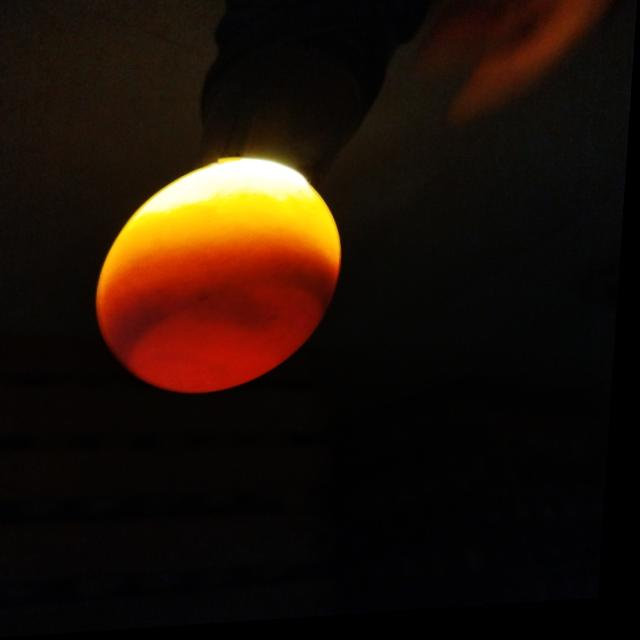Area Infectada: (113, 267, 340, 371)
